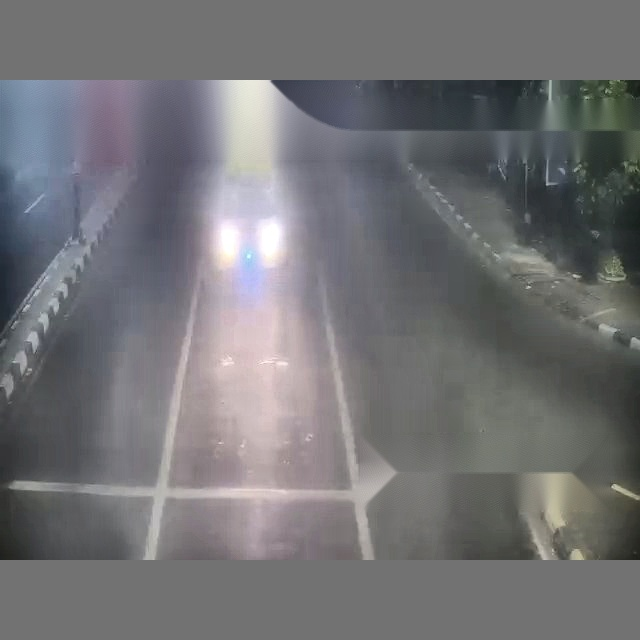Motor: (218, 218, 237, 269)
